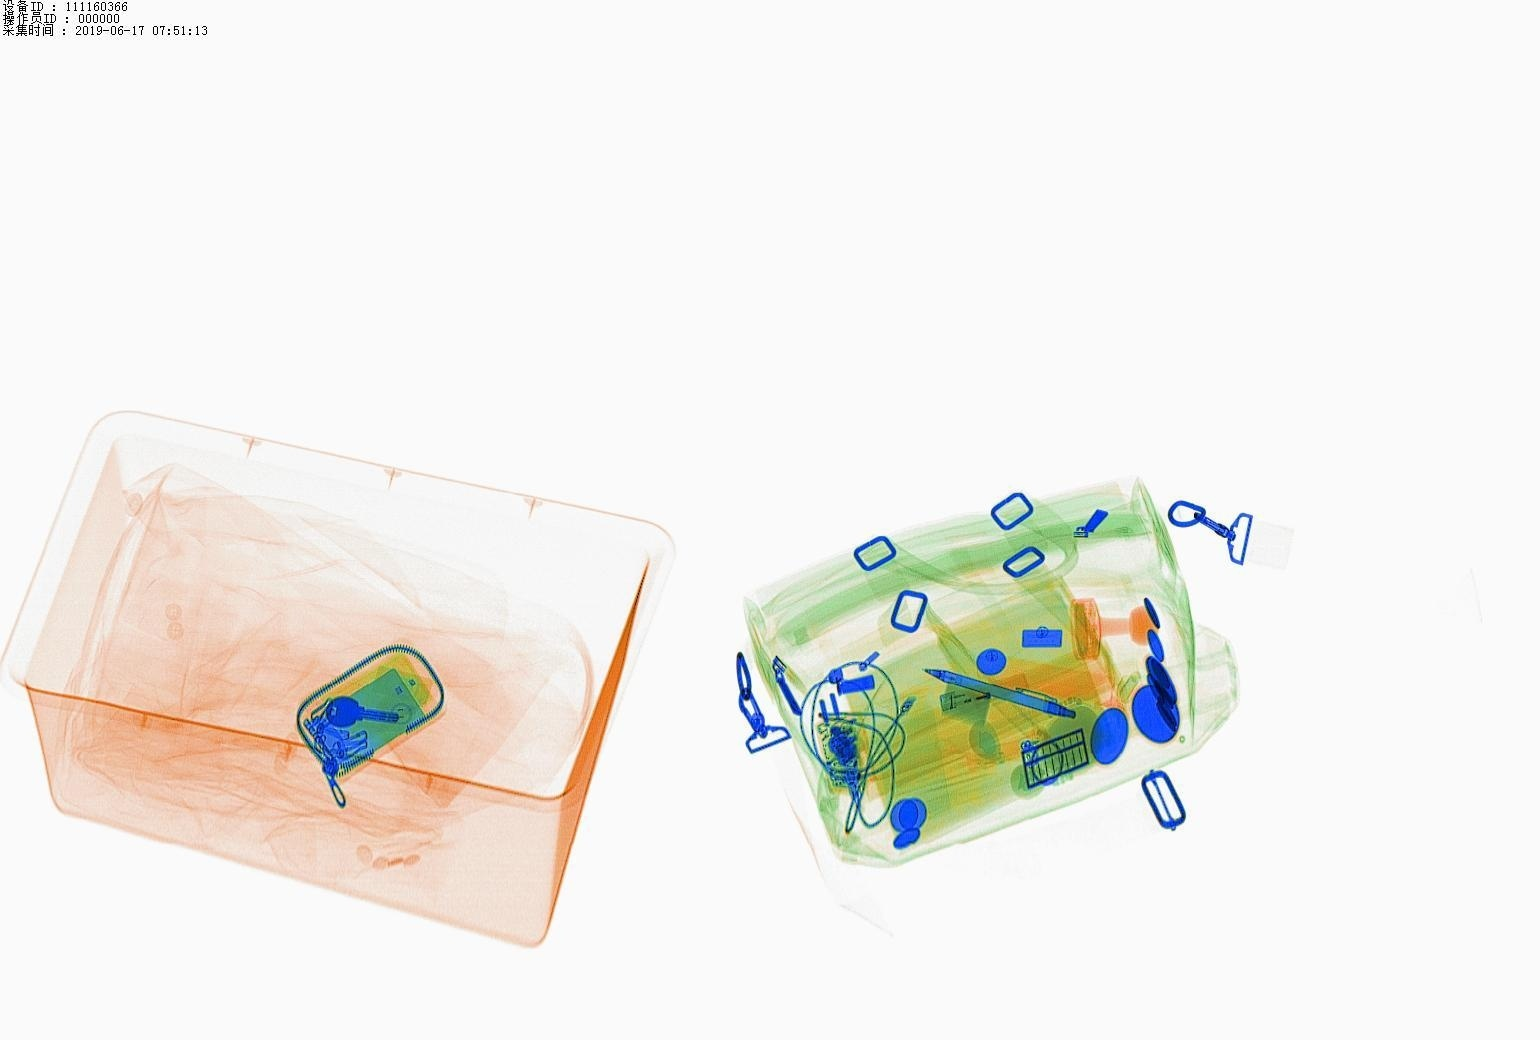NonmetallicFire: (916, 666, 1064, 739)
